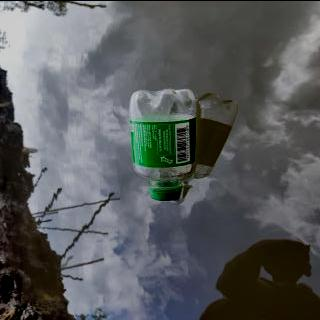bottle: (126, 85, 199, 202)
